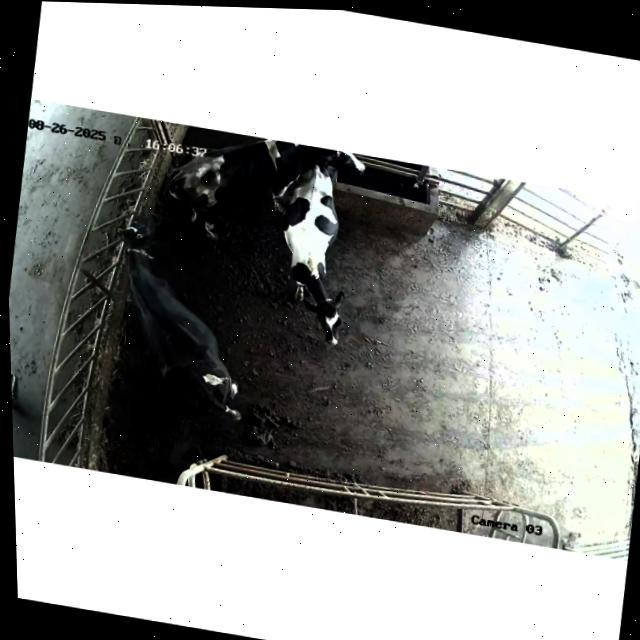stand: (91, 207, 269, 431), (265, 156, 370, 355)
